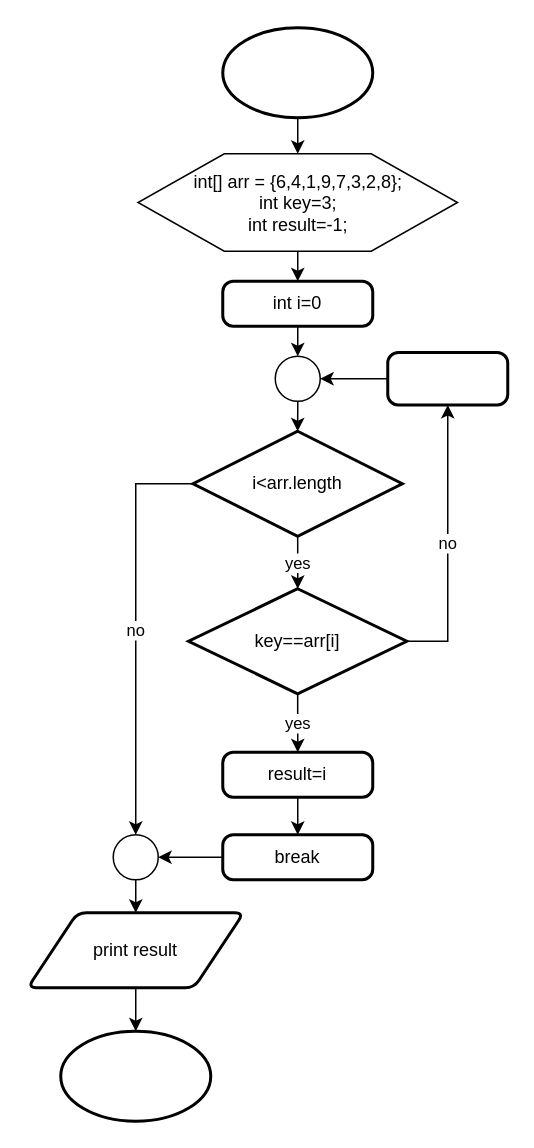
This 534x1148 diagram has some shape labels left out. The shapes that lost their labels are listed below. From the top down, each one's centre as x and y in pixels, then its label:
At (x=297, y=72): "Start".
At (x=447, y=378): "i++".
At (x=135, y=1075): "End".
